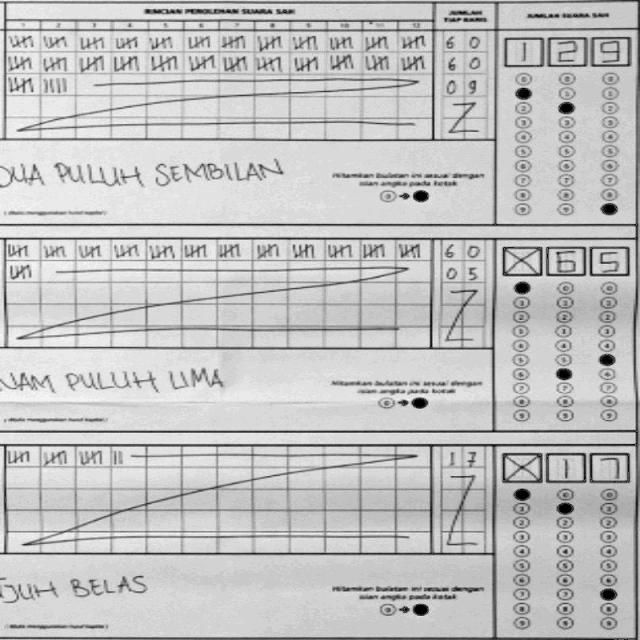Suara: (500, 32, 634, 70), (498, 243, 633, 280), (499, 448, 634, 485)
